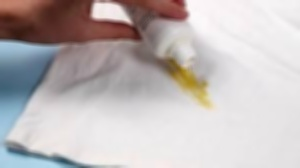mustard: (168, 68, 208, 103)
